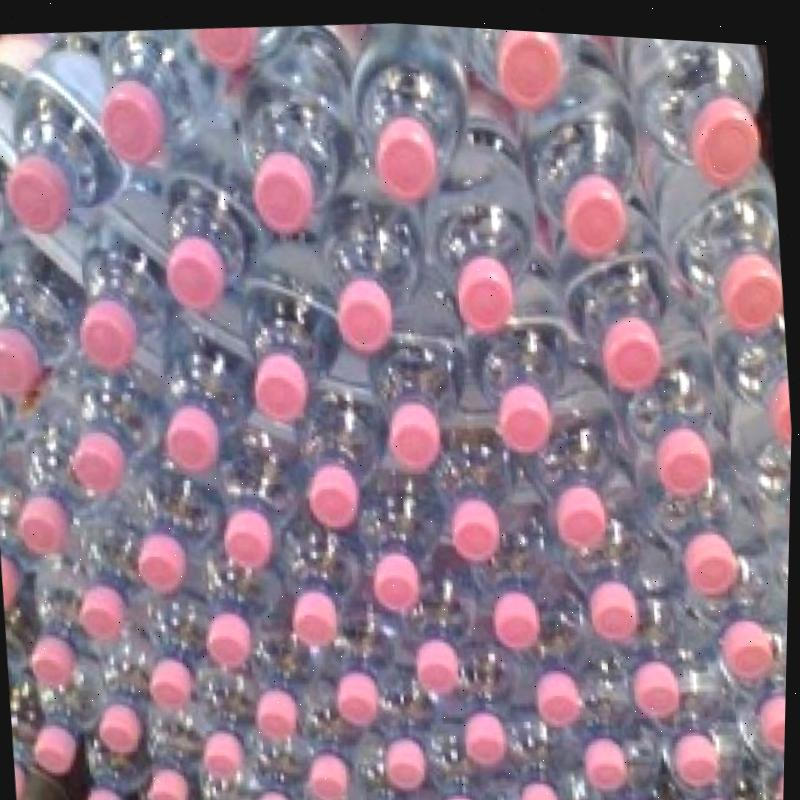botella: (645, 127, 790, 331), (544, 208, 690, 395), (0, 38, 129, 239), (219, 233, 345, 432), (135, 129, 275, 308), (614, 29, 777, 175), (336, 24, 475, 195), (212, 65, 356, 230), (314, 164, 430, 352), (359, 283, 471, 475), (517, 89, 653, 243), (423, 153, 538, 328), (451, 292, 577, 451), (605, 351, 738, 498), (75, 20, 213, 161), (58, 215, 185, 368), (403, 425, 537, 566), (268, 503, 381, 666), (0, 539, 118, 691), (193, 413, 305, 571), (147, 313, 254, 475), (634, 456, 765, 588), (536, 418, 654, 563), (570, 503, 682, 647), (50, 367, 163, 505), (115, 452, 217, 598), (287, 392, 399, 524), (0, 228, 85, 401), (385, 555, 490, 692), (10, 396, 99, 556), (682, 545, 791, 674), (475, 535, 584, 654), (198, 526, 282, 673), (458, 21, 597, 109), (27, 650, 113, 791), (514, 607, 613, 729), (189, 655, 277, 787), (91, 623, 171, 762), (709, 308, 795, 437), (369, 678, 456, 800), (360, 488, 446, 610), (660, 652, 743, 774), (611, 609, 700, 720), (142, 596, 216, 721), (447, 651, 527, 765), (81, 514, 149, 640), (173, 16, 300, 80), (248, 645, 332, 740), (574, 696, 657, 791), (70, 702, 149, 800), (139, 702, 217, 800), (509, 714, 597, 800), (295, 709, 377, 800), (723, 640, 789, 750), (731, 419, 793, 531), (325, 642, 397, 735), (239, 720, 309, 800), (0, 479, 37, 614), (431, 746, 515, 800), (744, 714, 788, 800), (677, 754, 754, 800), (598, 766, 681, 800), (13, 722, 46, 800), (774, 516, 792, 628), (0, 145, 14, 260), (359, 783, 431, 800)
